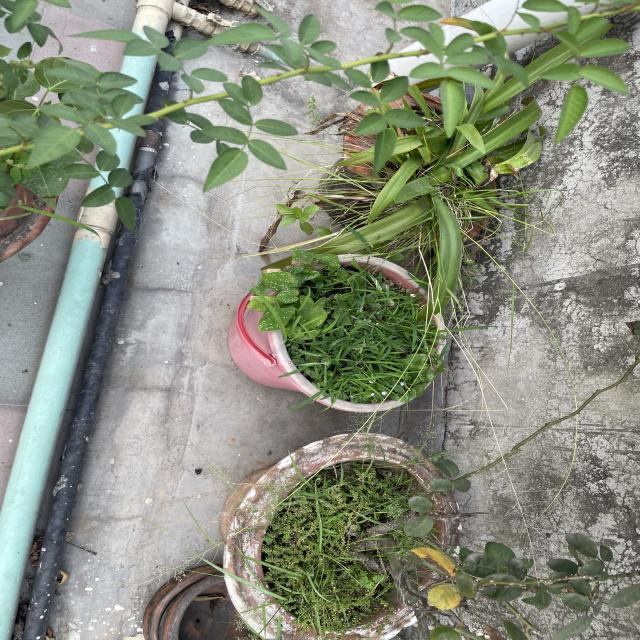Breeding Place: (230, 431, 462, 640), (237, 256, 452, 412), (152, 567, 274, 640)
